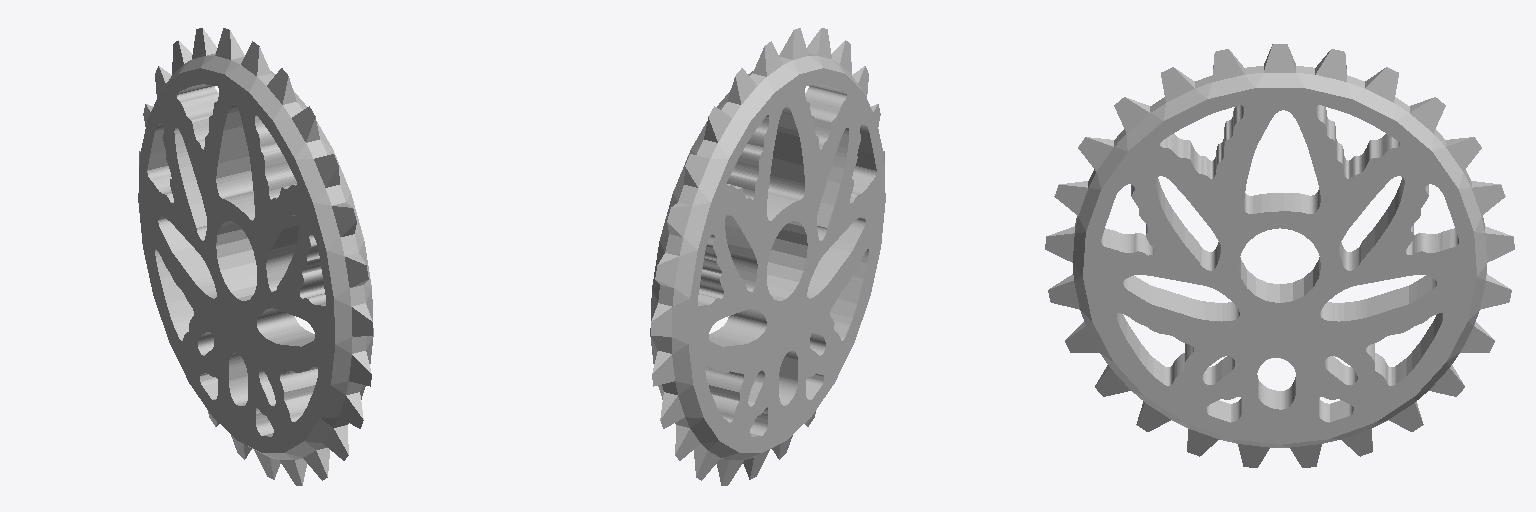
Rendered from PotLeaf.obj.
3 views of the same model, side by side, from view 1: azimuth 30°, elevation 25°; view 2: azimuth 150°, elevation 25°; view 3: azimuth 270°, elevation 25° (orthographic).
Parts seen in each view (by area): view 1: Devil's_Lettuce; view 2: Devil's_Lettuce; view 3: Devil's_Lettuce.
Boxes of the visible parts, x1=… form: Devil's_Lettuce: x1=138, y1=28, x2=373, y2=485; Devil's_Lettuce: x1=650, y1=28, x2=885, y2=485; Devil's_Lettuce: x1=1045, y1=44, x2=1514, y2=467.
Bounding box in the file's own units: 0.0094 × 0.0994 × 0.0996.